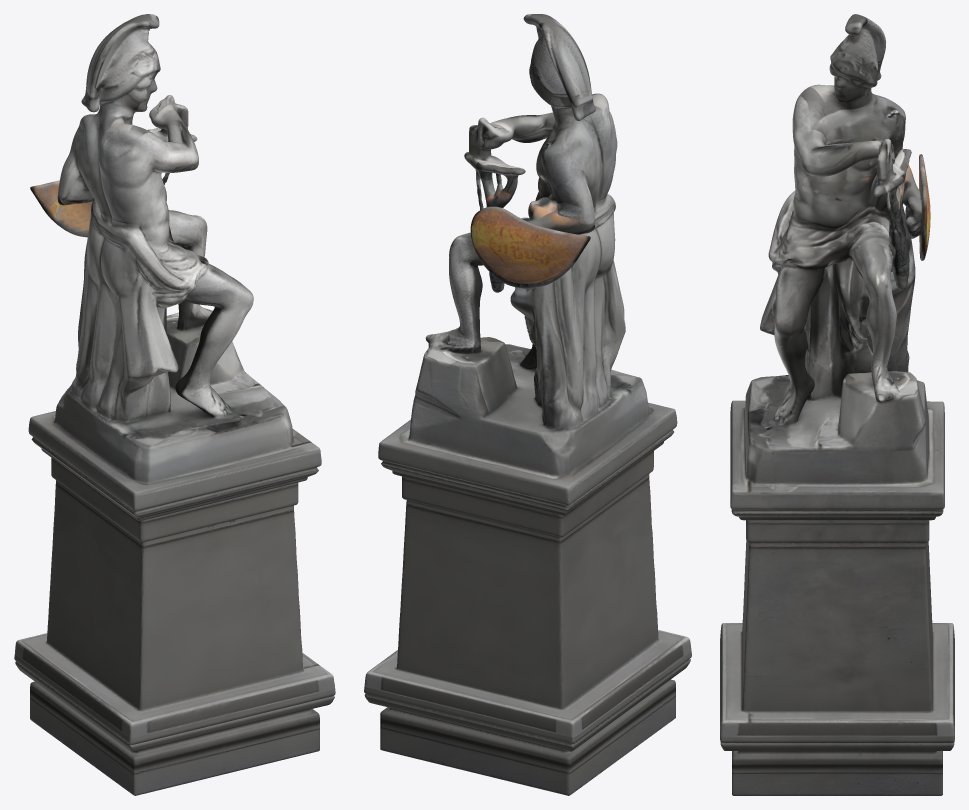
The model's file is estatua-pedestal.glb.
The picture shows the model from 3 angles, left to right: view 1: azimuth 30°, elevation 25°; view 2: azimuth 150°, elevation 25°; view 3: azimuth 270°, elevation 25°; orthographic projection. The views are drawn at different scales.
Parts seen in each view (by area): view 1: tripo_node_c727c78c-07bb-43f6-916d-53c9f33afb96; view 2: tripo_node_c727c78c-07bb-43f6-916d-53c9f33afb96; view 3: tripo_node_c727c78c-07bb-43f6-916d-53c9f33afb96.
Part boxes in pixels (bbox=[...]): tripo_node_c727c78c-07bb-43f6-916d-53c9f33afb96: bbox=[14, 14, 335, 795]; tripo_node_c727c78c-07bb-43f6-916d-53c9f33afb96: bbox=[364, 14, 691, 795]; tripo_node_c727c78c-07bb-43f6-916d-53c9f33afb96: bbox=[720, 14, 954, 795].
Bounding box in the file's own units: 0.3008 × 1 × 0.2951.
Materials: 1 (1 with a texture image).
